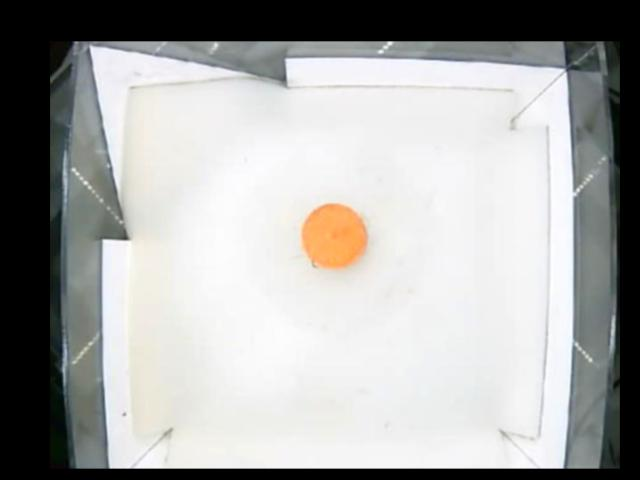Carrot: (301, 202, 367, 269)
